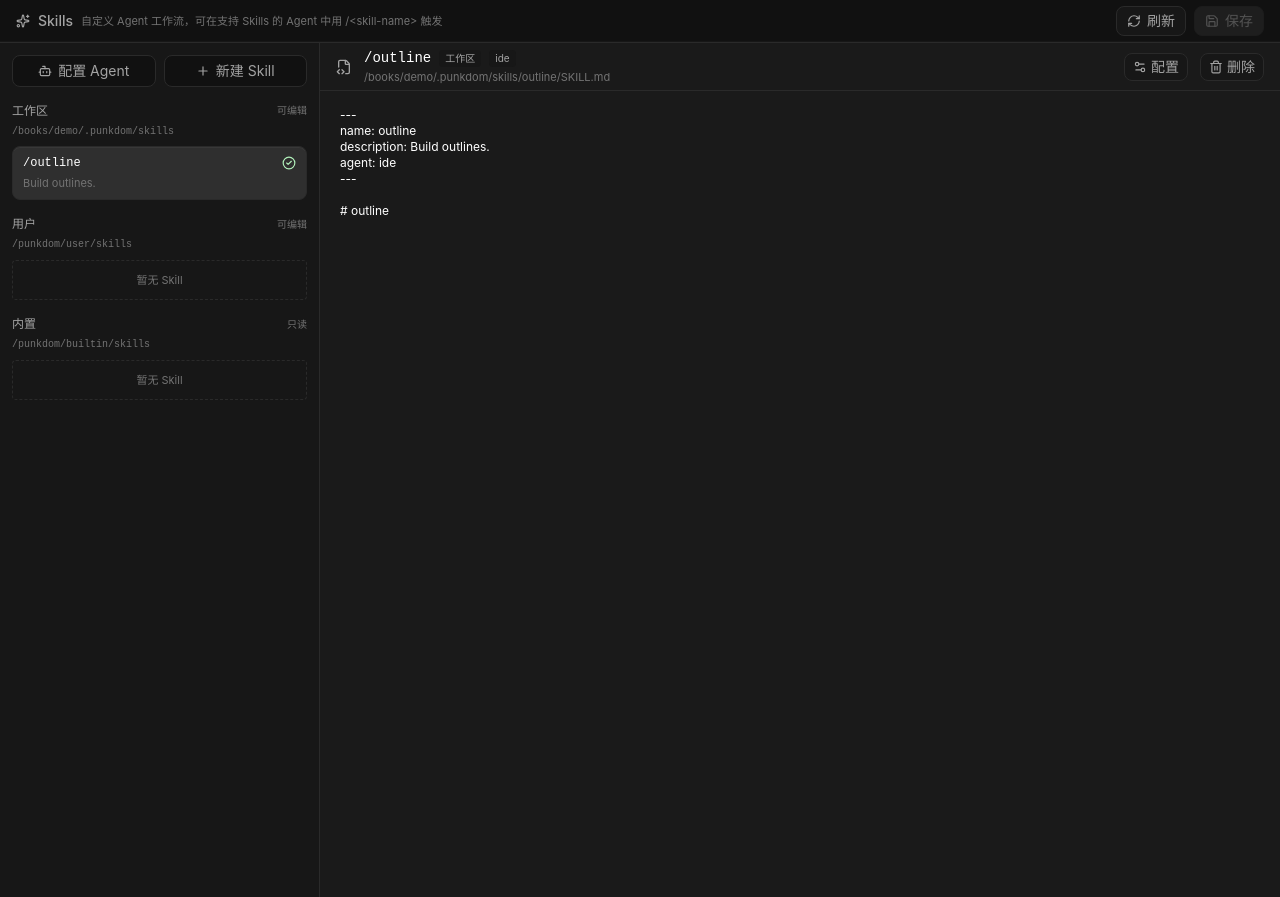
Test: SkillsView › opens a guided create panel from the Skills page
Expected: the 2nd text "/outline" is shown, x1=23 y1=156 x2=81 y2=170
Expected: the button "配置 Agent" is shown, x1=12 y1=55 x2=156 y2=87
Click the button "新建 Skill" at (235, 71), box x1=164 y1=55 x2=307 y2=87
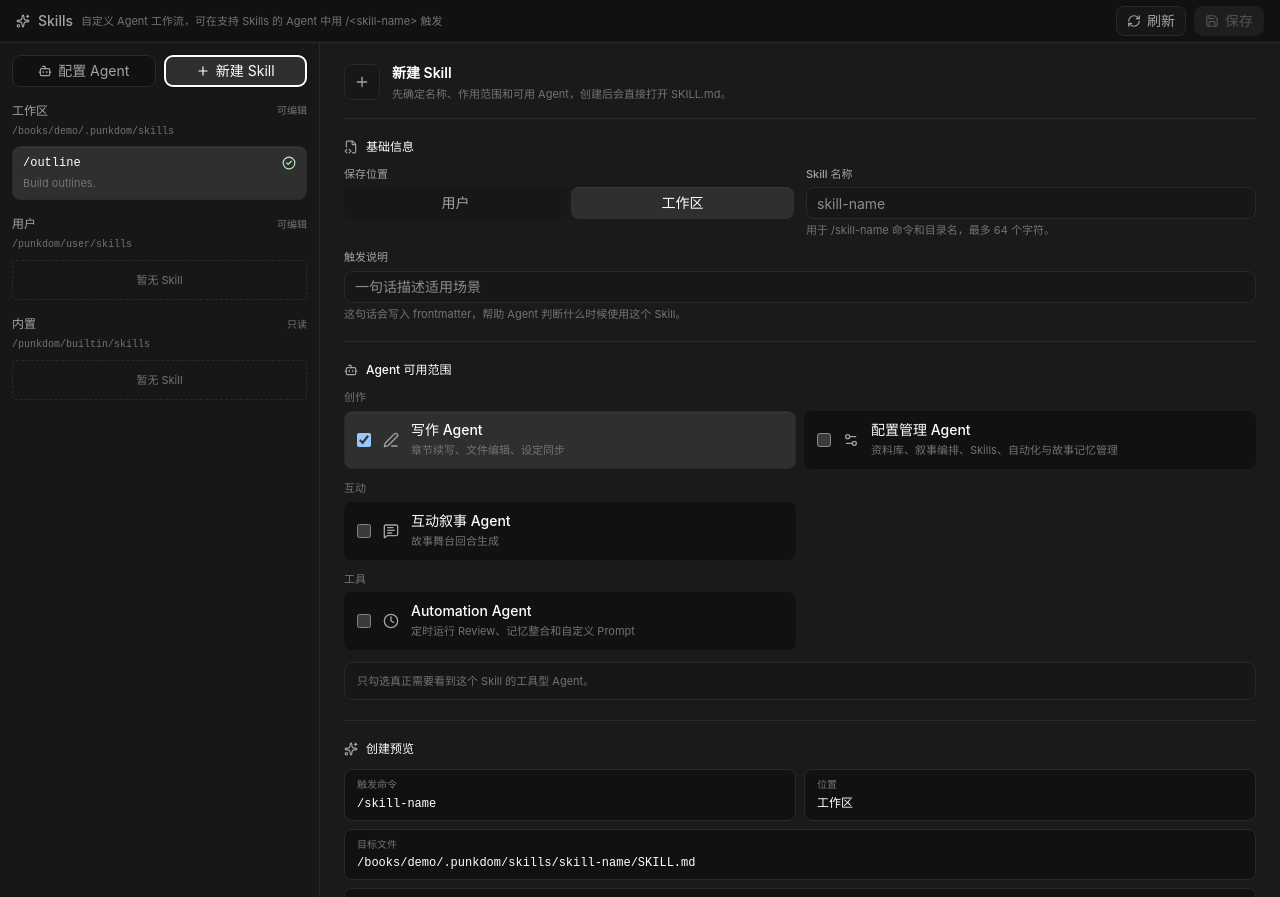
Now the text "基础信息" is shown, box x1=344 y1=139 x2=414 y2=154
Now the field named "Skill 名称" is shown, box x1=806 y1=187 x2=1256 y2=219
Now the field named "触发说明" is shown, box x1=344 y1=271 x2=1256 y2=303
